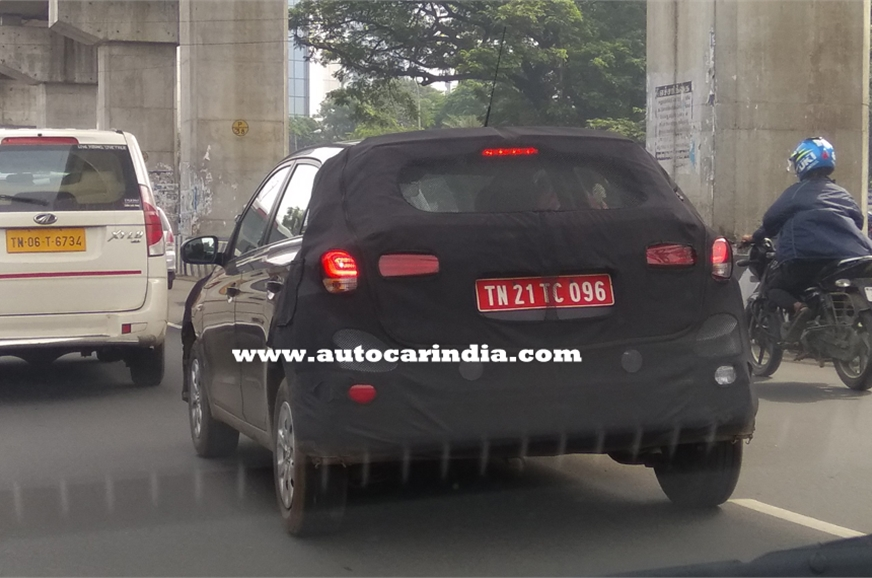T: (483, 285, 498, 308)
